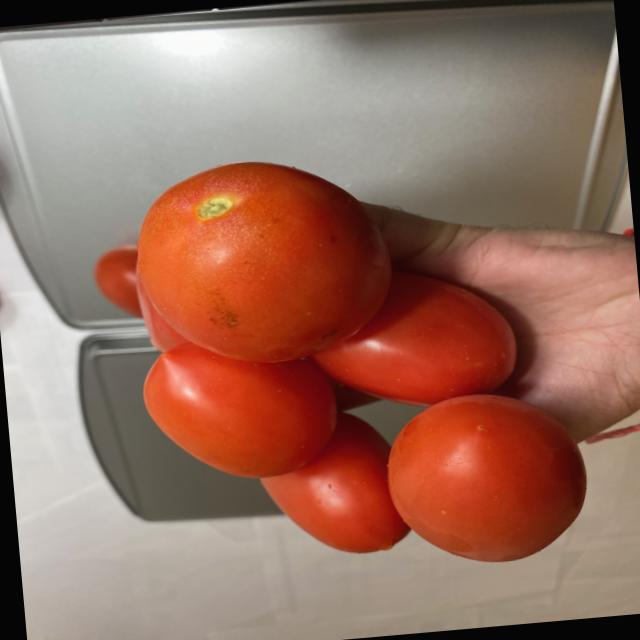tomato: (86, 138, 597, 596)
